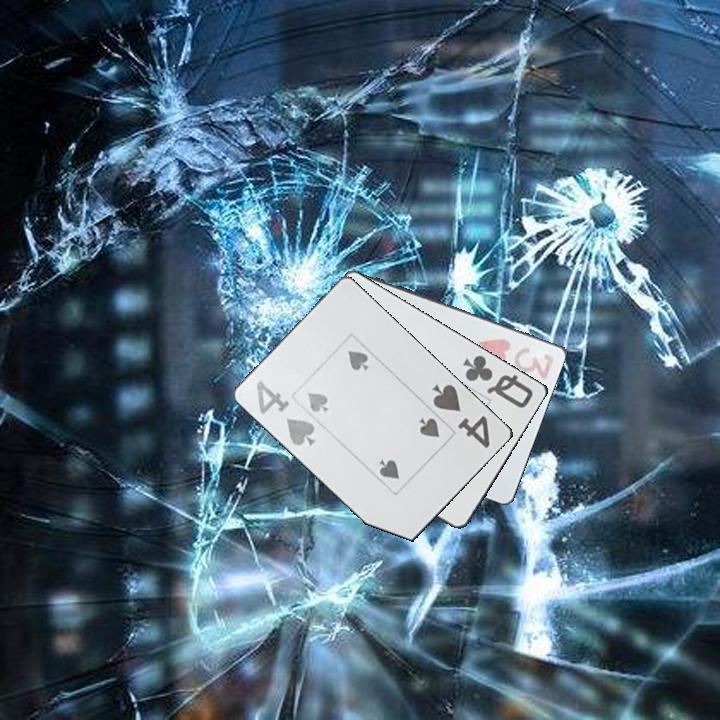3h: (475, 334, 557, 382)
4s: (252, 377, 319, 449), (429, 378, 494, 451)
Qc: (459, 351, 537, 411)
